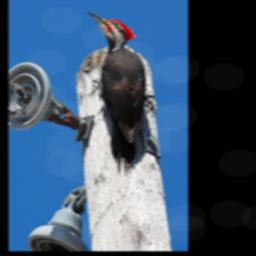Woodpecker: (81, 9, 161, 174)
